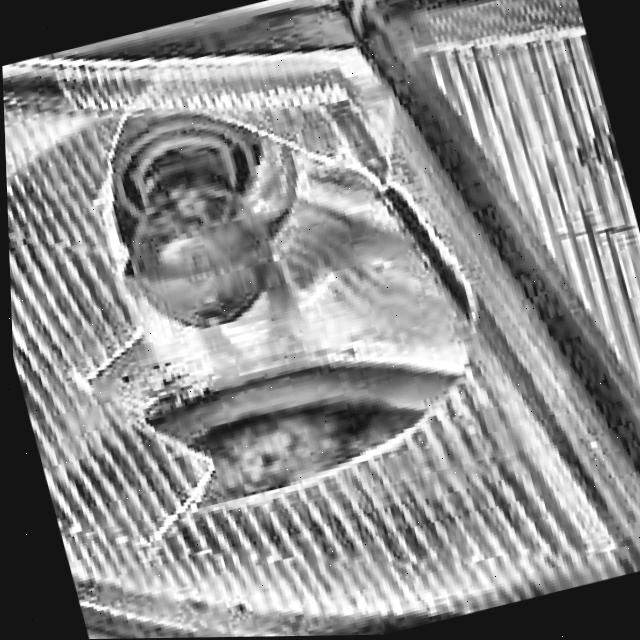head_lamp: (26, 39, 506, 548)
